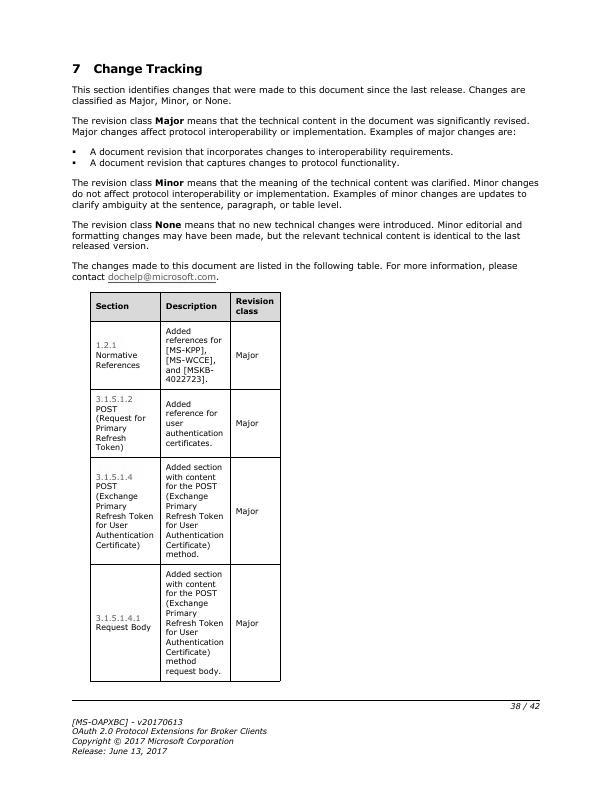table: (87, 290, 283, 685)
text: (69, 175, 543, 212), (68, 218, 521, 254), (69, 113, 529, 141), (68, 258, 521, 285), (70, 83, 526, 107), (67, 714, 268, 758), (89, 156, 402, 170), (88, 147, 452, 157), (67, 60, 205, 79)
